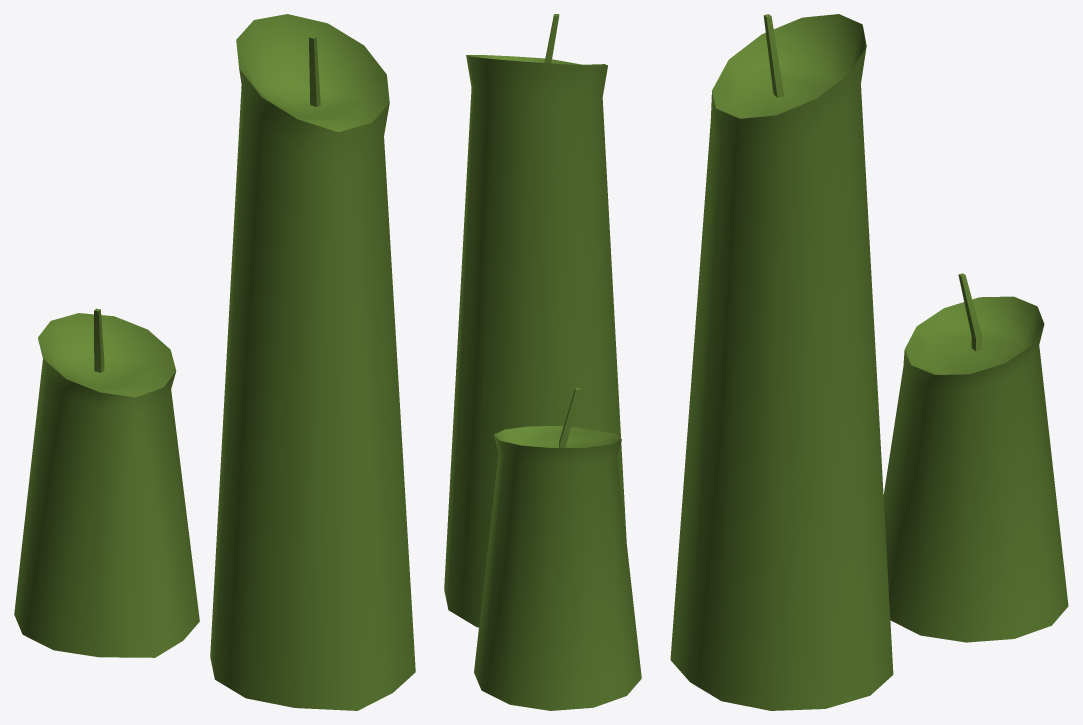
The model's file is candle_02.FBX.
3 views of the same model, side by side, from view 1: azimuth 30°, elevation 25°; view 2: azimuth 150°, elevation 25°; view 3: azimuth 270°, elevation 25° (orthographic). The views are drawn at different scales.
Visible parts, largest first — view 1: candles_02; view 2: candles_02; view 3: candles_02.
Boxes of the visible parts, x1,y1,x2,y2 form: candles_02: [14, 14, 415, 710]; candles_02: [444, 14, 641, 710]; candles_02: [670, 14, 1068, 710].
Size of the model in its own units: 11.08 by 23.8 by 13.29.
